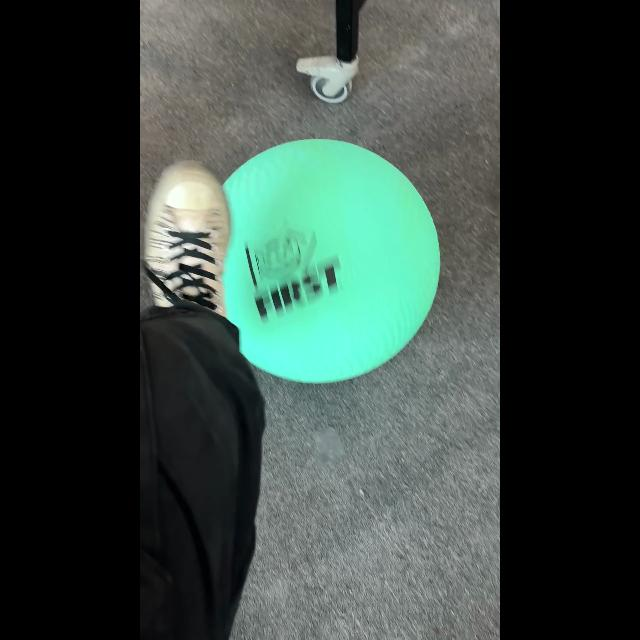ALGAE: (220, 138, 440, 384)
